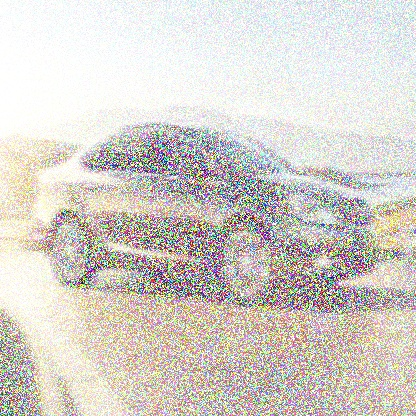Vehicle: (34, 121, 379, 308)
